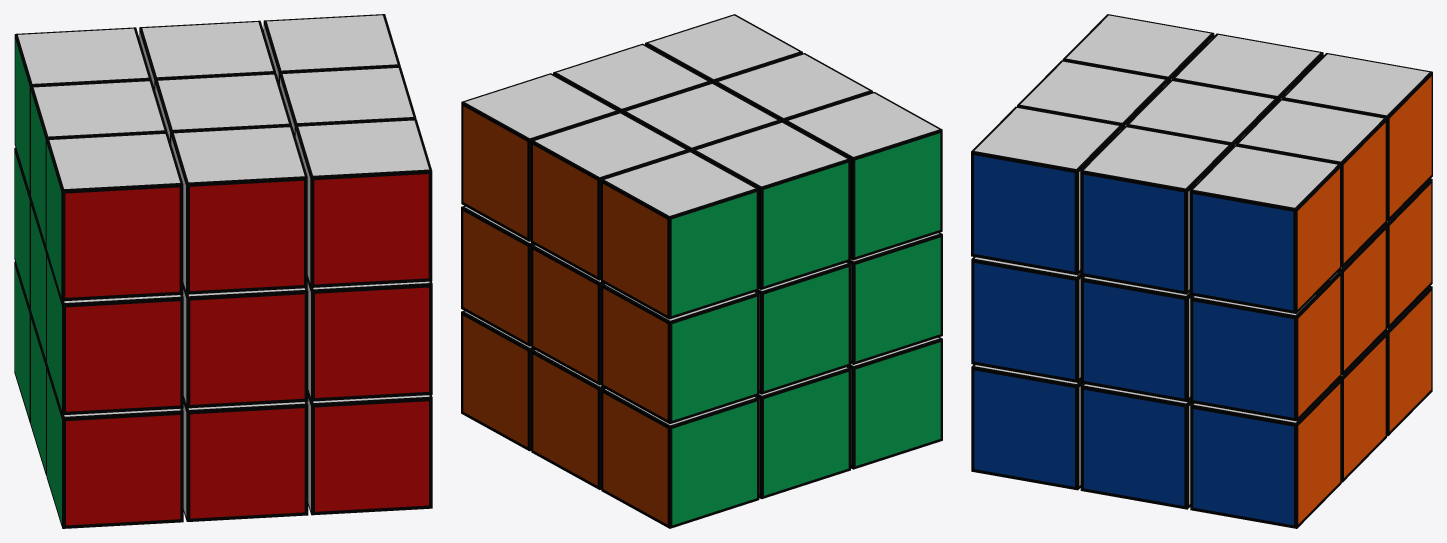
File: RubiksCube.glb
3 renders of one model, left to right at view 1: azimuth 30°, elevation 25°; view 2: azimuth 150°, elevation 25°; view 3: azimuth 270°, elevation 25°, orthographic. The views are drawn at different scales.
Parts seen in each view (by area): view 1: Rubik's Cube; view 2: Rubik's Cube; view 3: Rubik's Cube.
Part boxes in pixels (left/top/right/bottom): Rubik's Cube: left=14, top=14, right=432, bottom=528; Rubik's Cube: left=461, top=14, right=942, bottom=528; Rubik's Cube: left=971, top=14, right=1432, bottom=528.
Size of the model in its own units: 0.0731 by 0.0558 by 0.0731.
